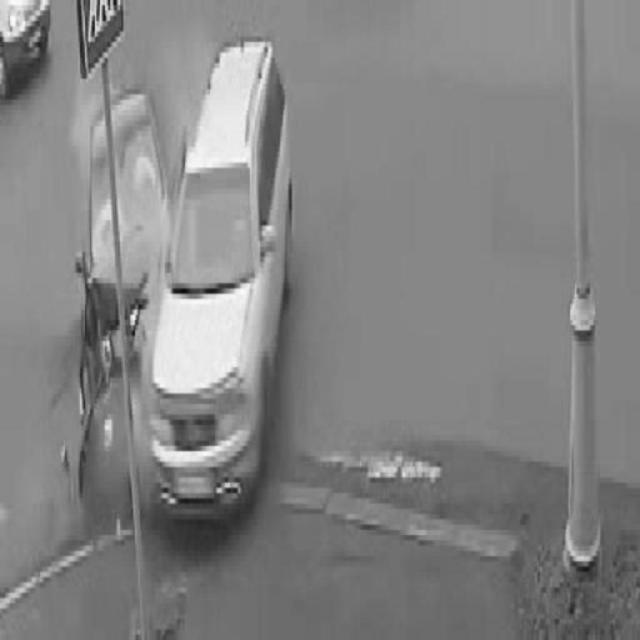accident: (87, 33, 284, 517)
